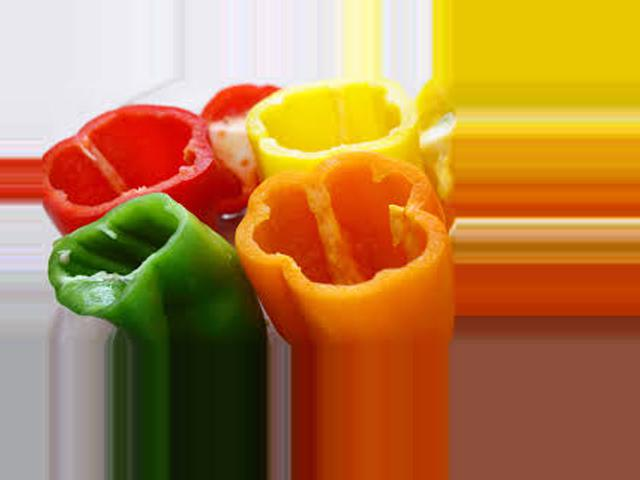bell_pepper: (47, 98, 215, 209)
